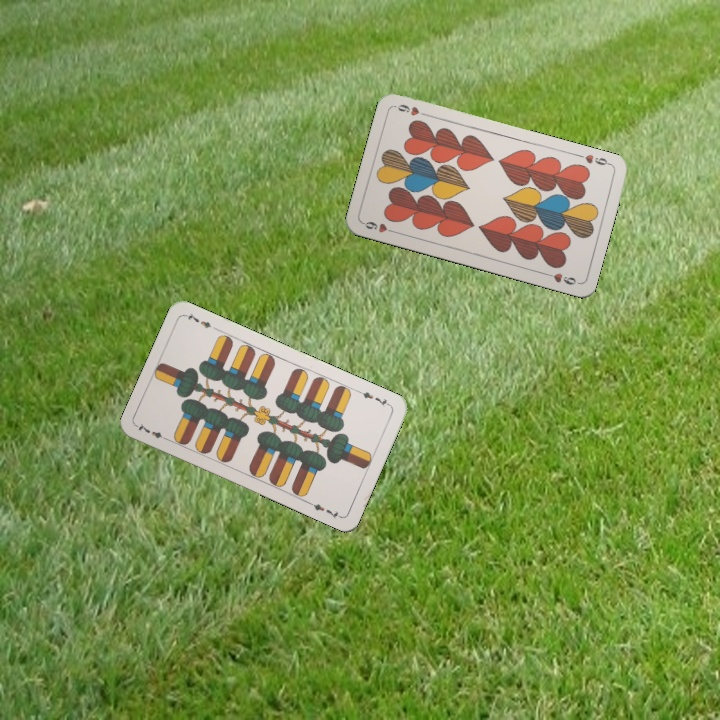E7: (133, 419, 172, 444), (354, 386, 393, 409)
H9: (359, 217, 399, 236), (581, 150, 614, 168)
